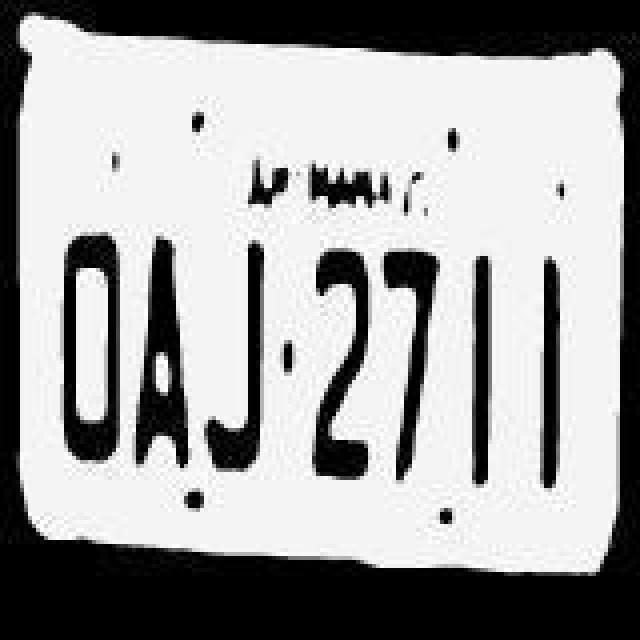1: (516, 250, 572, 502), (450, 250, 502, 510)
2: (296, 240, 376, 504)
7: (374, 236, 442, 500)
A: (126, 232, 194, 488)
J: (194, 228, 270, 492)
O: (48, 220, 120, 476)
